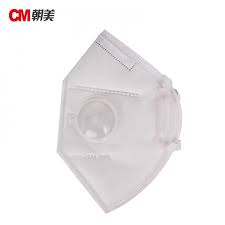mask: (50, 37, 171, 202)
